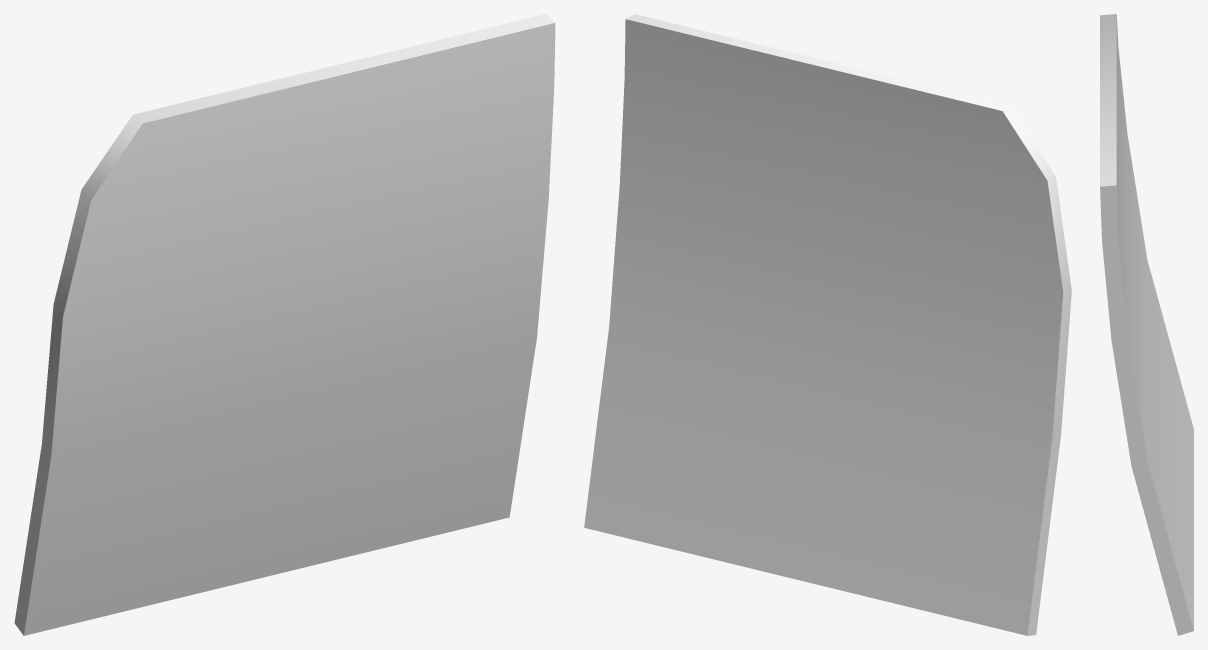
3 renders of one model, left to right at view 1: azimuth 30°, elevation 25°; view 2: azimuth 150°, elevation 25°; view 3: azimuth 270°, elevation 25°, orthographic. The views are drawn at different scales.
Bounding box in the file's own units: 0.2218 × 0.2312 × 0.0437.
Materials: 1 (1 with a texture image).
